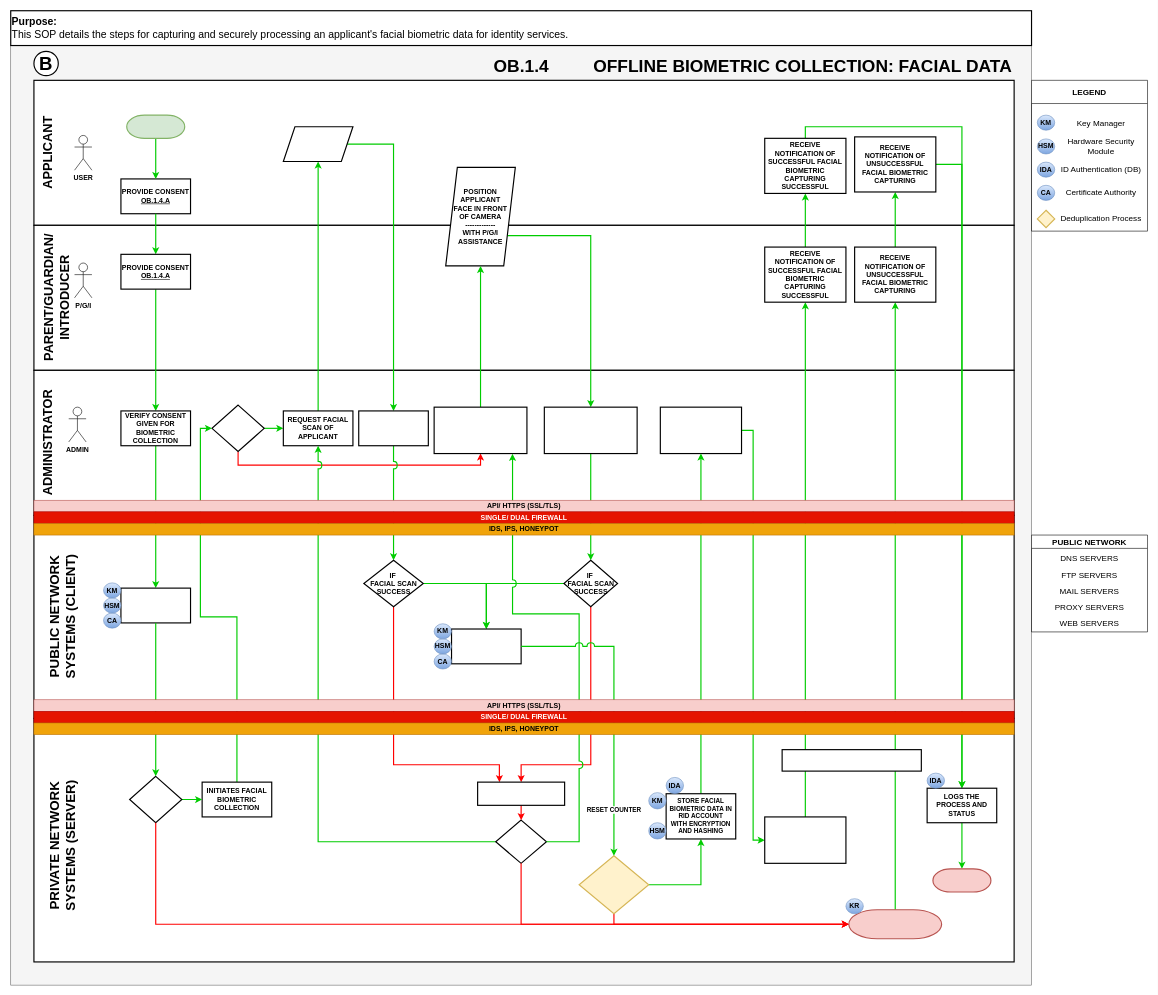
Some shapes in this 1158 by 995 pixel diagram are drawn without their labels. Each missing label, with the centre of its shape:
"CAPTURE FACIAL IMAGE OF APPLICANT" goes at (393,428).
"CAPTURE FACIAL IMAGE OF APPLICANT ------------- WITH P/G/I ASSISTANCE" goes at (590,430).
"END" goes at (961,880).
"EXCEPTION AND ERROR HANDLING (COUNTER)" goes at (521,793).
"IF APPLICANT AGE >5" goes at (237,428).
"IF CONSENT GIVEN" goes at (155,799).
"IF FACIAL BIOMETRIC DATA IS UNIQUE" goes at (613,884).
"IF RETRY COUNT < = 3" goes at (521,841).
"MASK & ENCRYPT FACIAL SCAN" goes at (486,646).
"MASK & ENCRYPT RID AND APPLICANT DETAILS" goes at (155,605).
"NOTIFICATION GENERATOR" goes at (851,760).
"NOTIFY THE PARTICIPANTS" goes at (805,840).
"POSITIONS FACE IN FRONT OF CAMERA" goes at (317,144).
"RECEIVE CONFIRMATION OF FACIAL BIOMETRIC CAPTURE COMPLETED" goes at (700,430).
"REQUEST FACIAL SCAN OF APPLICANT ------------- WITH P/G/I ASSISTANCE" goes at (480,430).
"START (OFFLINE)" goes at (155,126).
"TERMINATE PROCESS: REJECT APPLICATION" goes at (895,924).
